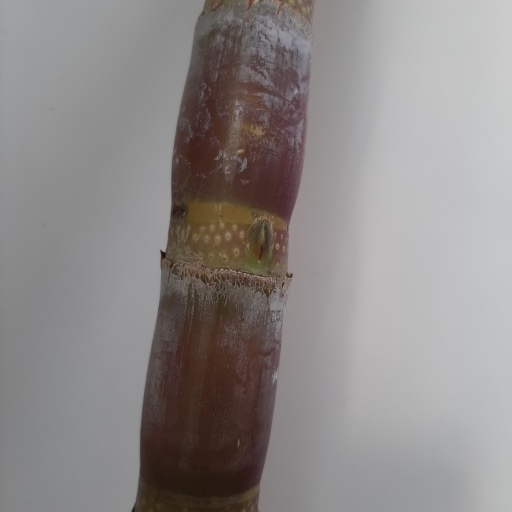Bud: (246, 214, 272, 265)
